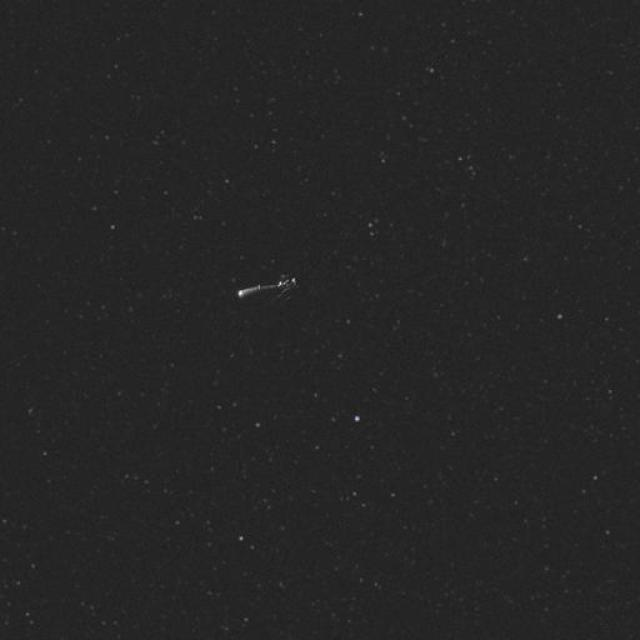debris: (217, 252, 324, 313)
